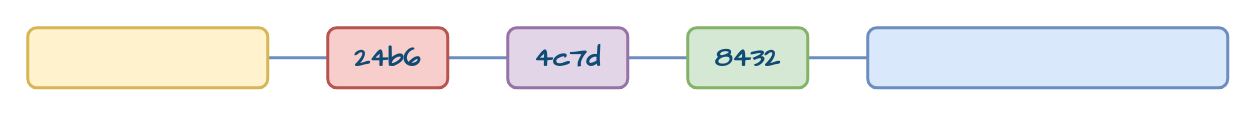
Some shapes in this 1254 by 114 pixel diagram are drawn without their labels. Here are the shapes that lost their labels. From the top down, the centre of each, then its label:
pixel 147 57: 8f4cf41b
pixel 1047 57: ed91be7faef5
